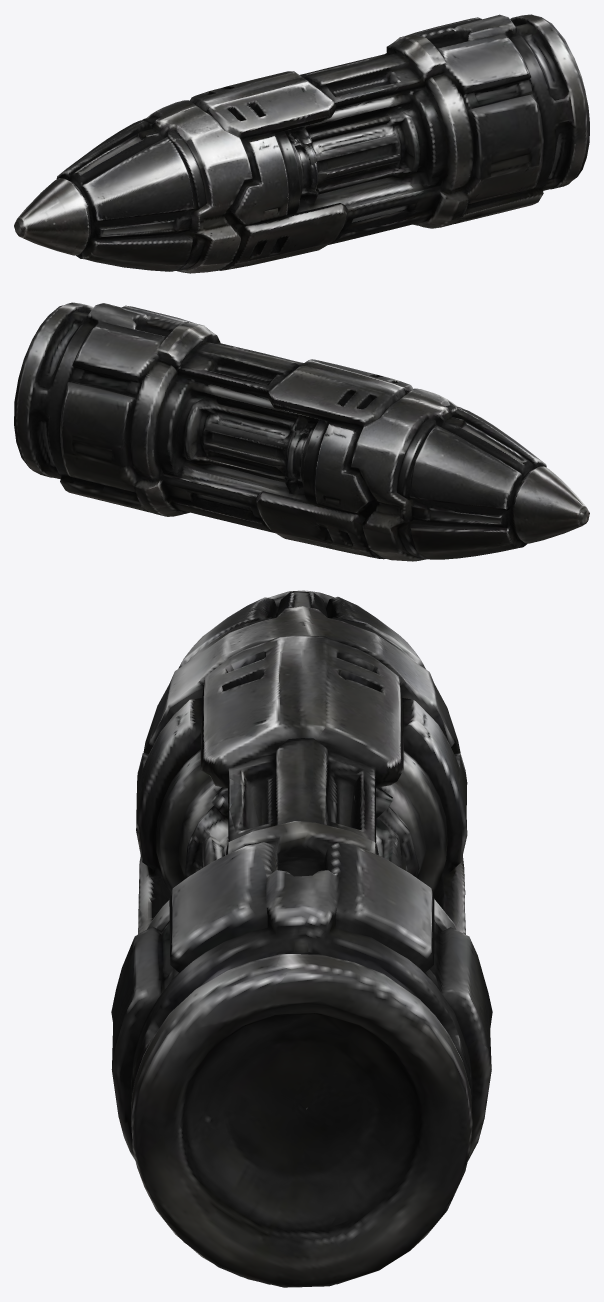
File: tripo_convert_c8d80fa8-eeb6-4496-80ae-eb742ca3238d.fbx
3 views of the same model, one above another, from view 1: azimuth 30°, elevation 25°; view 2: azimuth 150°, elevation 25°; view 3: azimuth 270°, elevation 25° (orthographic). The views are drawn at different scales.
Visible parts, largest first — view 1: tripo_node_c8d80fa8; view 2: tripo_node_c8d80fa8; view 3: tripo_node_c8d80fa8.
Part boxes in pixels (x1,y1,x2,y2): tripo_node_c8d80fa8: (14, 14, 589, 273); tripo_node_c8d80fa8: (14, 302, 589, 561); tripo_node_c8d80fa8: (111, 590, 492, 1287).
Bounding box in the file's own units: 1 × 0.3315 × 0.3098.
Materials: 1 (1 with a texture image).
